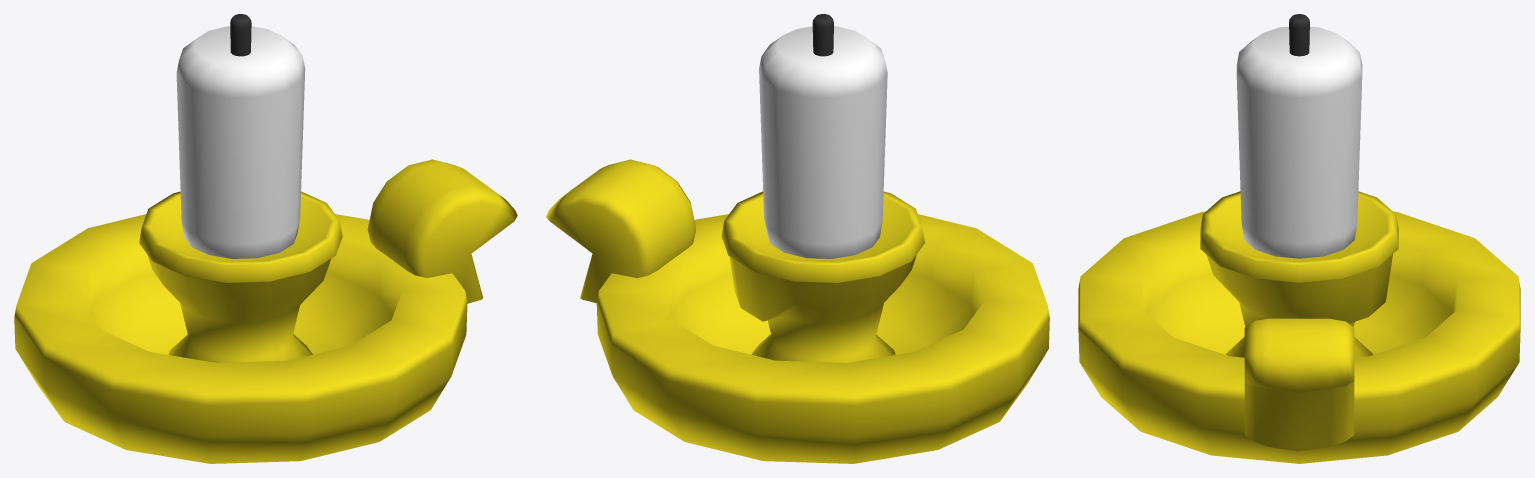
File: Candle.fbx
3 renders of one model, left to right at view 1: azimuth 30°, elevation 25°; view 2: azimuth 150°, elevation 25°; view 3: azimuth 270°, elevation 25°, orthographic.
Parts seen in each view (by area): view 1: Candle4; view 2: Candle4; view 3: Candle4.
Boxes of the visible parts, x1,y1,x2,y2 form: Candle4: [14, 14, 517, 463]; Candle4: [546, 14, 1049, 463]; Candle4: [1078, 14, 1520, 463].
Bounding box in the file's own units: 2.36 × 1.77 × 1.96.
